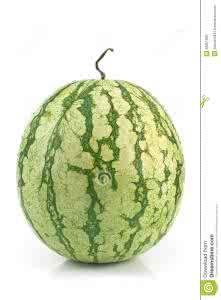watermelon: (17, 56, 193, 263)
